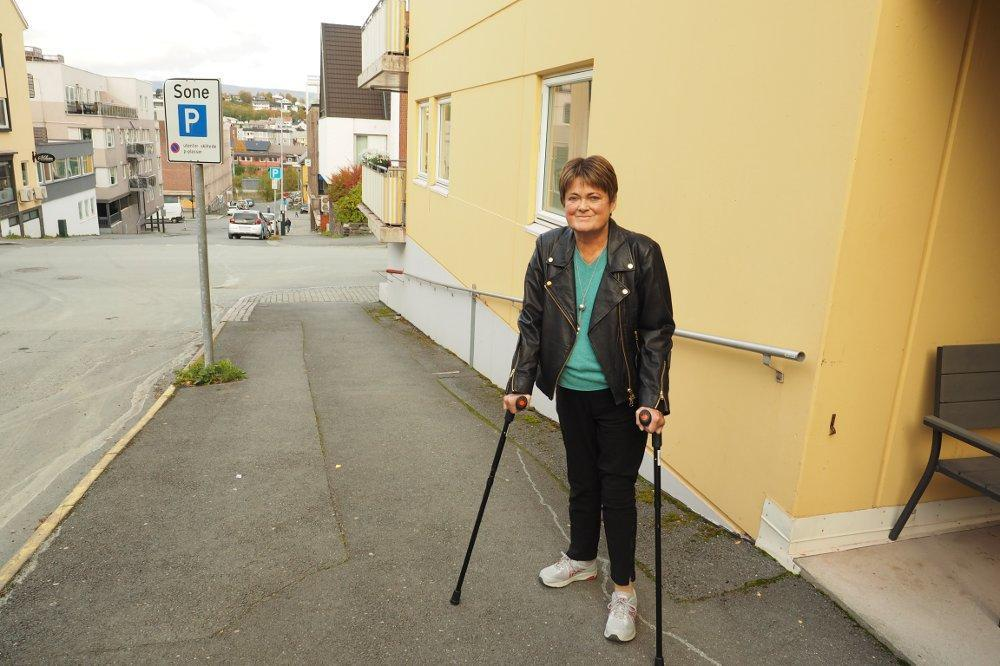crutches: (450, 156, 675, 665)
